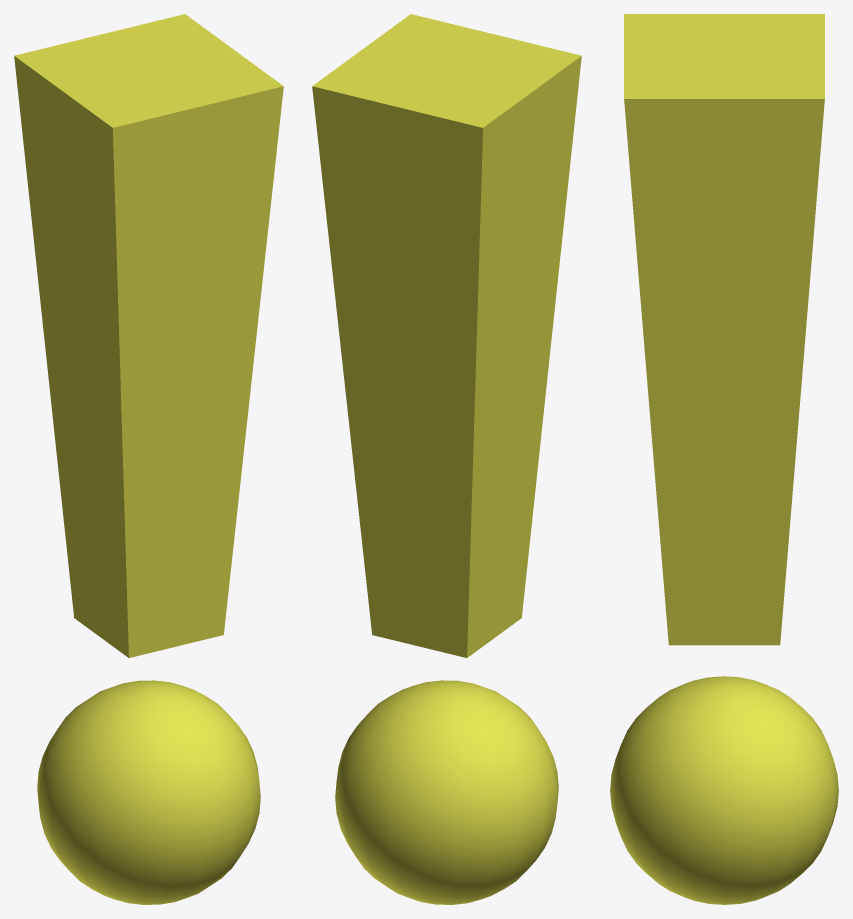
Rendered from ExclamationMark.fbx.
3 renders of one model, left to right at view 1: azimuth 30°, elevation 25°; view 2: azimuth 150°, elevation 25°; view 3: azimuth 270°, elevation 25°, orthographic.
Visible parts, largest first — view 1: pCube10; view 2: pCube10; view 3: pCube10.
Boxes of the visible parts, bbox=[...] form: pCube10: bbox=[14, 14, 283, 904]; pCube10: bbox=[312, 14, 581, 904]; pCube10: bbox=[610, 14, 838, 904].
Size of the model in its own units: 156 by 631 by 156.
